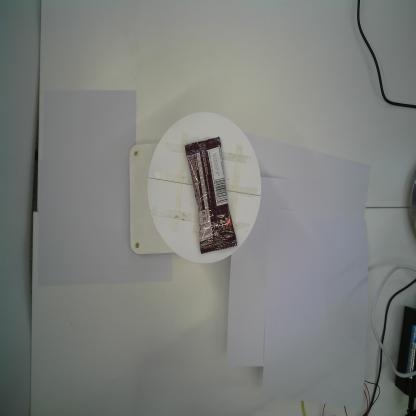Chocolate: (184, 136, 238, 256)
